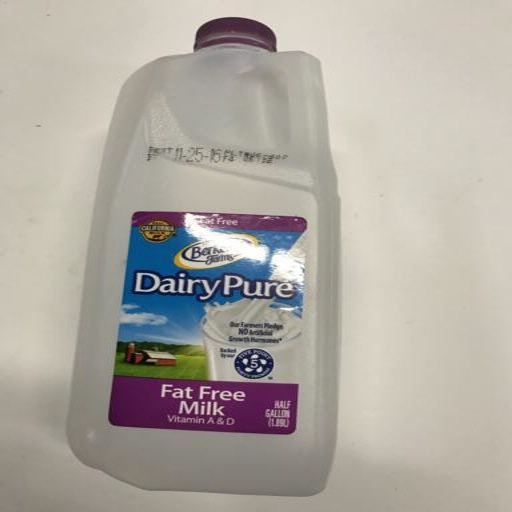Plastic_1: (75, 16, 343, 499)
